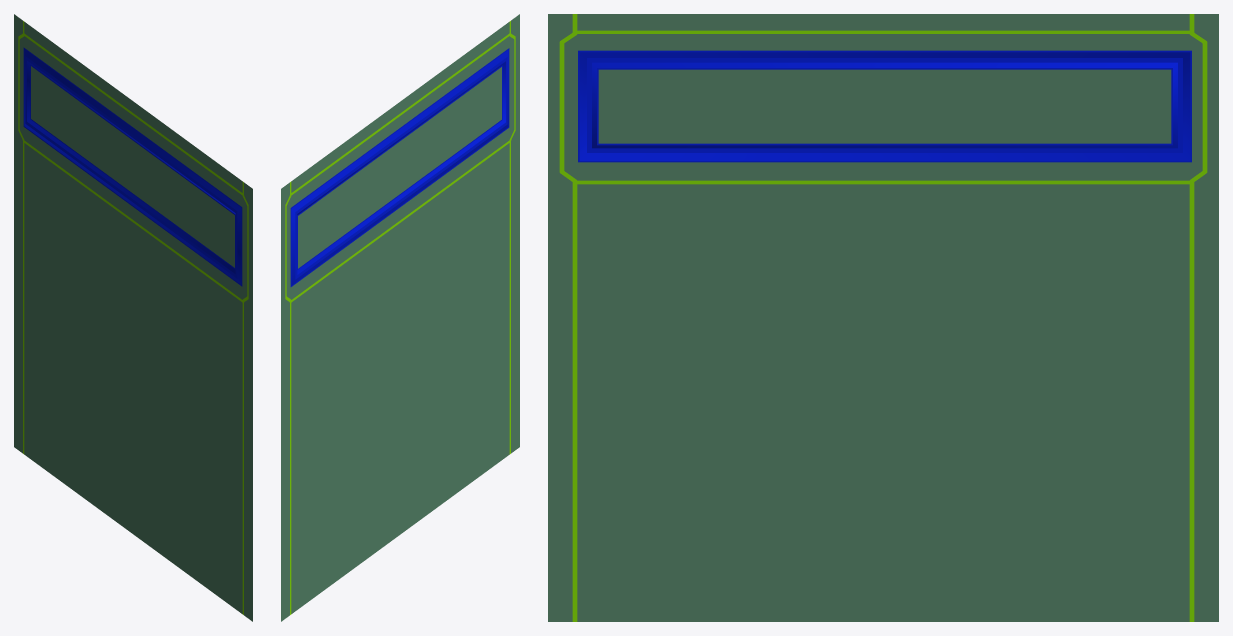
File: Building_Wall_02k_snaps016.fbx
3 views of the same model, side by side, from view 1: azimuth 30°, elevation 25°; view 2: azimuth 150°, elevation 25°; view 3: azimuth 270°, elevation 25° (orthographic). The views are drawn at different scales.
Parts seen in each view (by area): view 1: Building_Wall_02k_snaps016_LOD0; view 2: Building_Wall_02k_snaps016_LOD0; view 3: Building_Wall_02k_snaps016_LOD0.
Part boxes in pixels (x1,y1,x2,y2): Building_Wall_02k_snaps016_LOD0: [14, 14, 252, 621]; Building_Wall_02k_snaps016_LOD0: [281, 14, 519, 621]; Building_Wall_02k_snaps016_LOD0: [548, 14, 1218, 621].
Size of what is drawn, in the model's own units: 0.0237 by 6 by 6.
